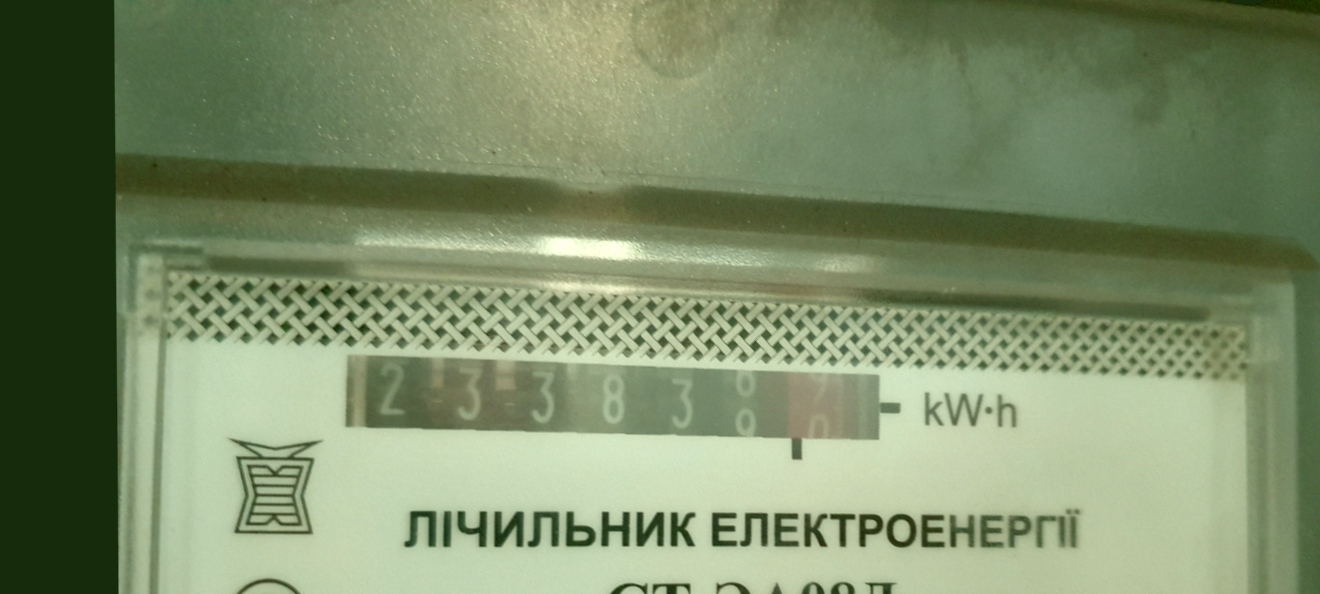0: (805, 411, 831, 445)
2: (372, 358, 411, 419)
3: (523, 364, 559, 428), (667, 372, 696, 429), (454, 363, 482, 422)
8: (595, 368, 629, 427), (732, 366, 759, 398)
9: (802, 367, 833, 406), (731, 404, 760, 441)
screen: (315, 328, 909, 489)
